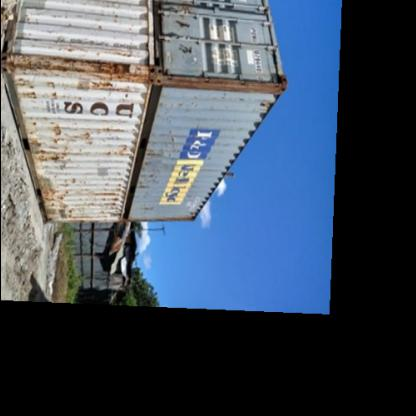Damage: (8, 57, 148, 105), (139, 128, 179, 194), (42, 172, 77, 222), (44, 34, 134, 52), (30, 114, 66, 146), (93, 179, 123, 214), (31, 148, 70, 164), (100, 144, 130, 162), (70, 129, 97, 147), (152, 100, 188, 113), (103, 122, 127, 136), (138, 200, 156, 214)
